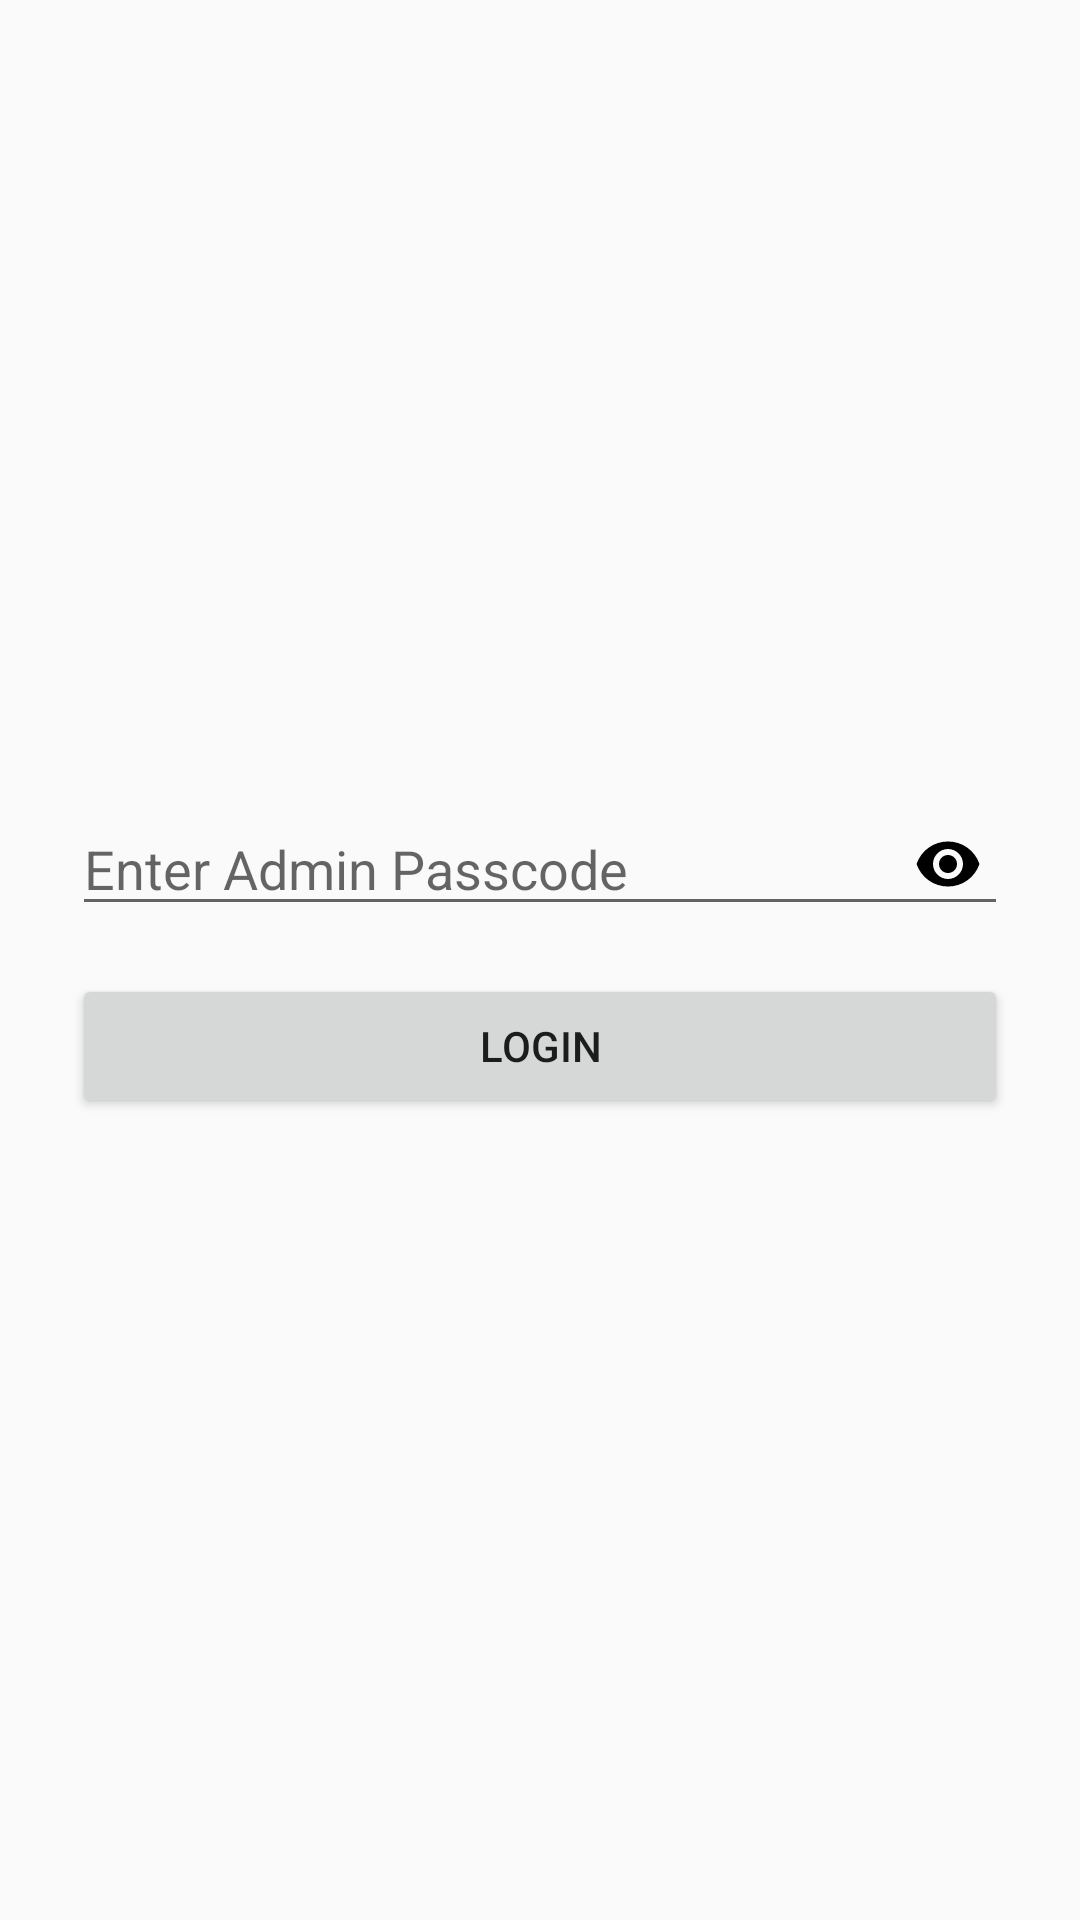

Where to tap for icons on this 1080*1920 app screen, as [x,y]:
Toggle Password Visibility: [948,864]
